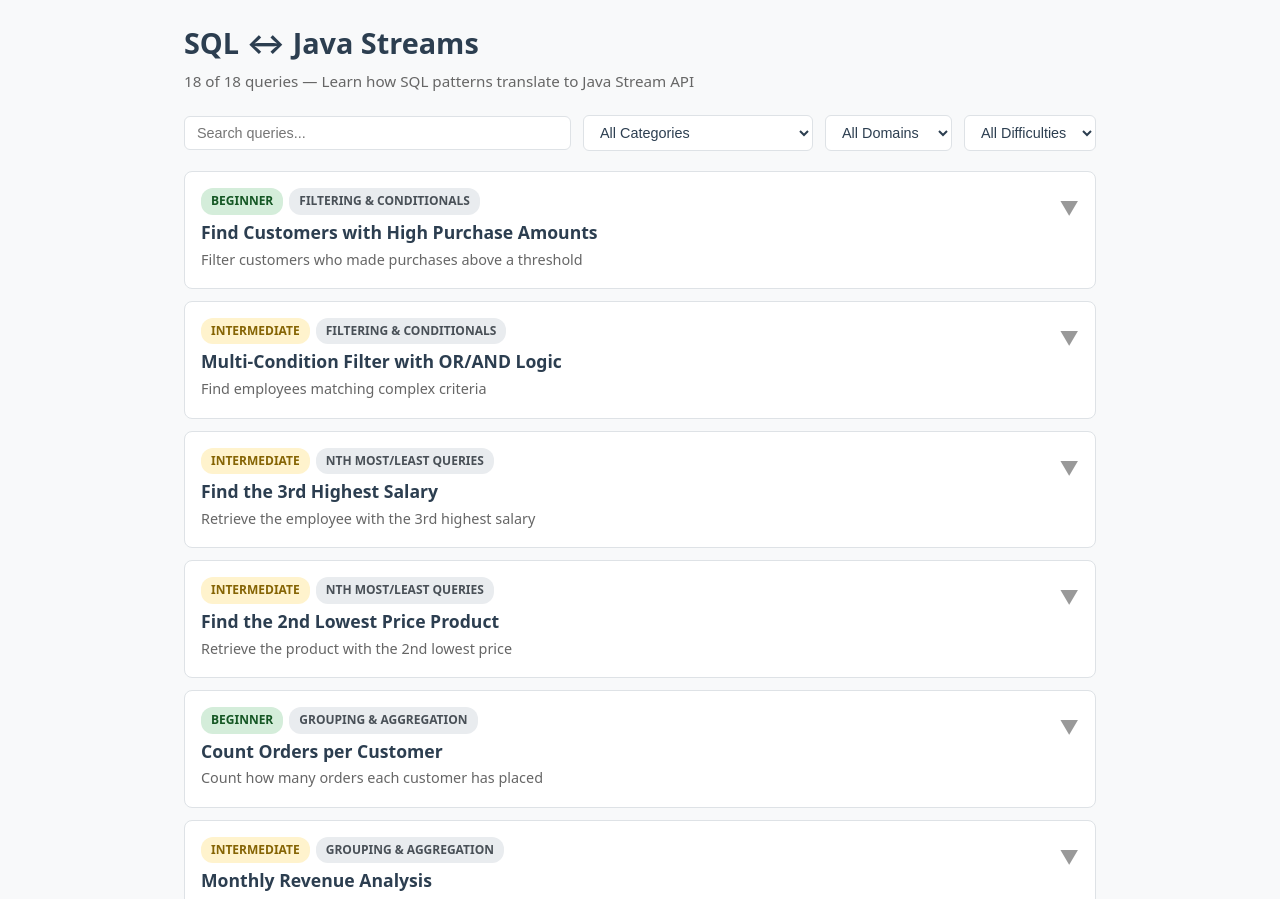
Test: SqlStreamsPage › shows empty state when no results match
This screenshot has width=1280, height=899.
Type "zzzznotfound" into the field with placeholder "Search queries..." at (378,133), box [184, 116, 571, 150]
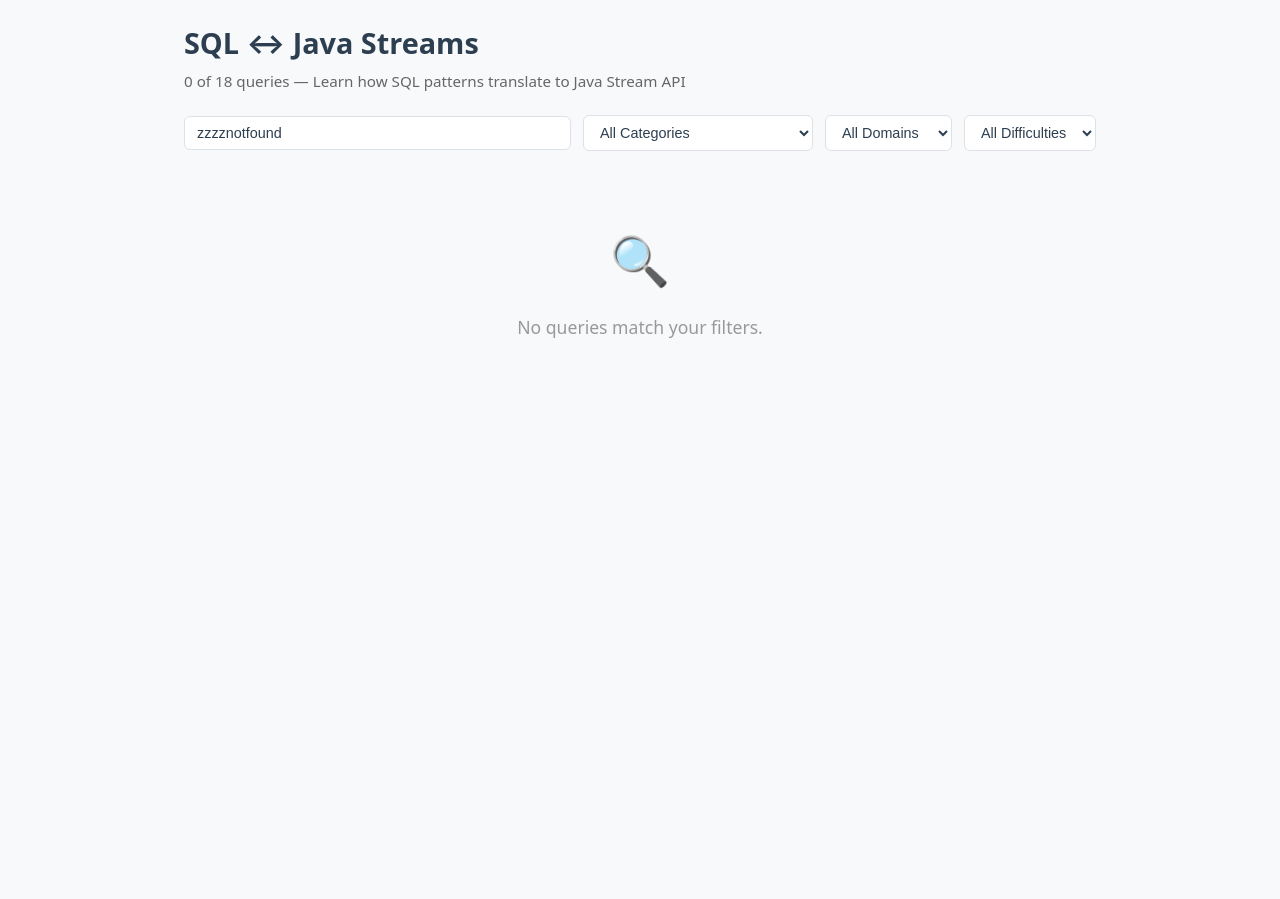
Expected: the text "No queries match your filters." is shown, [517, 315, 763, 339]
